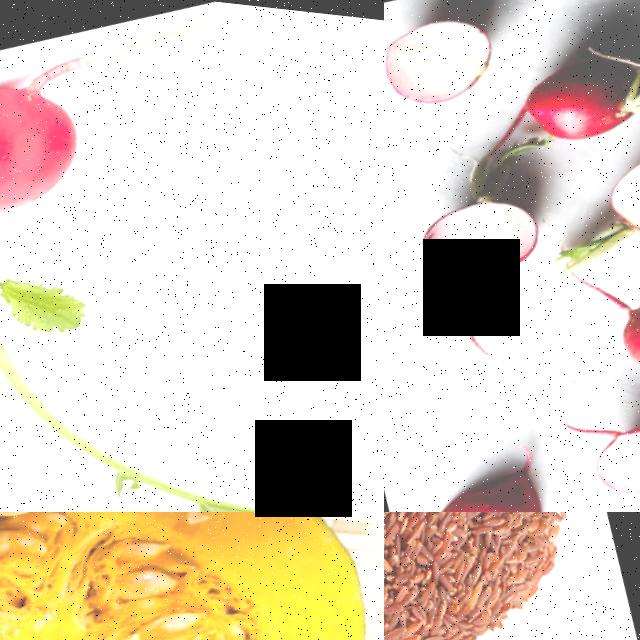pumpkin: (0, 512, 384, 640)
radishes: (0, 52, 150, 366), (405, 165, 570, 316), (509, 25, 640, 167), (384, 0, 518, 127), (557, 112, 640, 274), (416, 435, 583, 512), (583, 389, 640, 512)
red rice: (384, 512, 594, 640)
